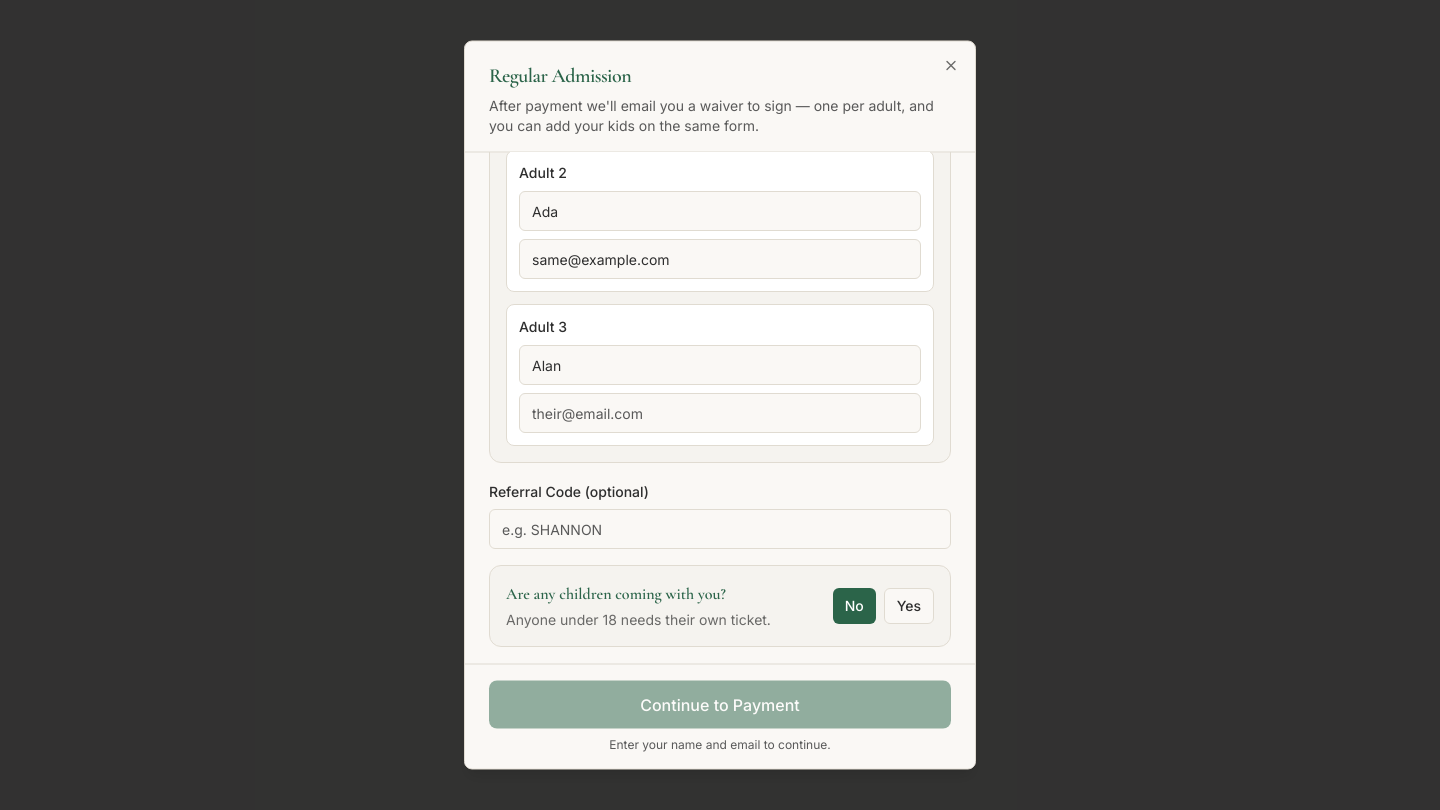
Test case: adult quantity › flags two additional adults sharing an email
This screenshot has width=1440, height=810.
Earlier steps of the test are not shown.
(page scrolled)
Type "same@example.com" into the field with test id "adult-email-3" at (720, 414), box top-left (519, 394), bottom-right (921, 434)
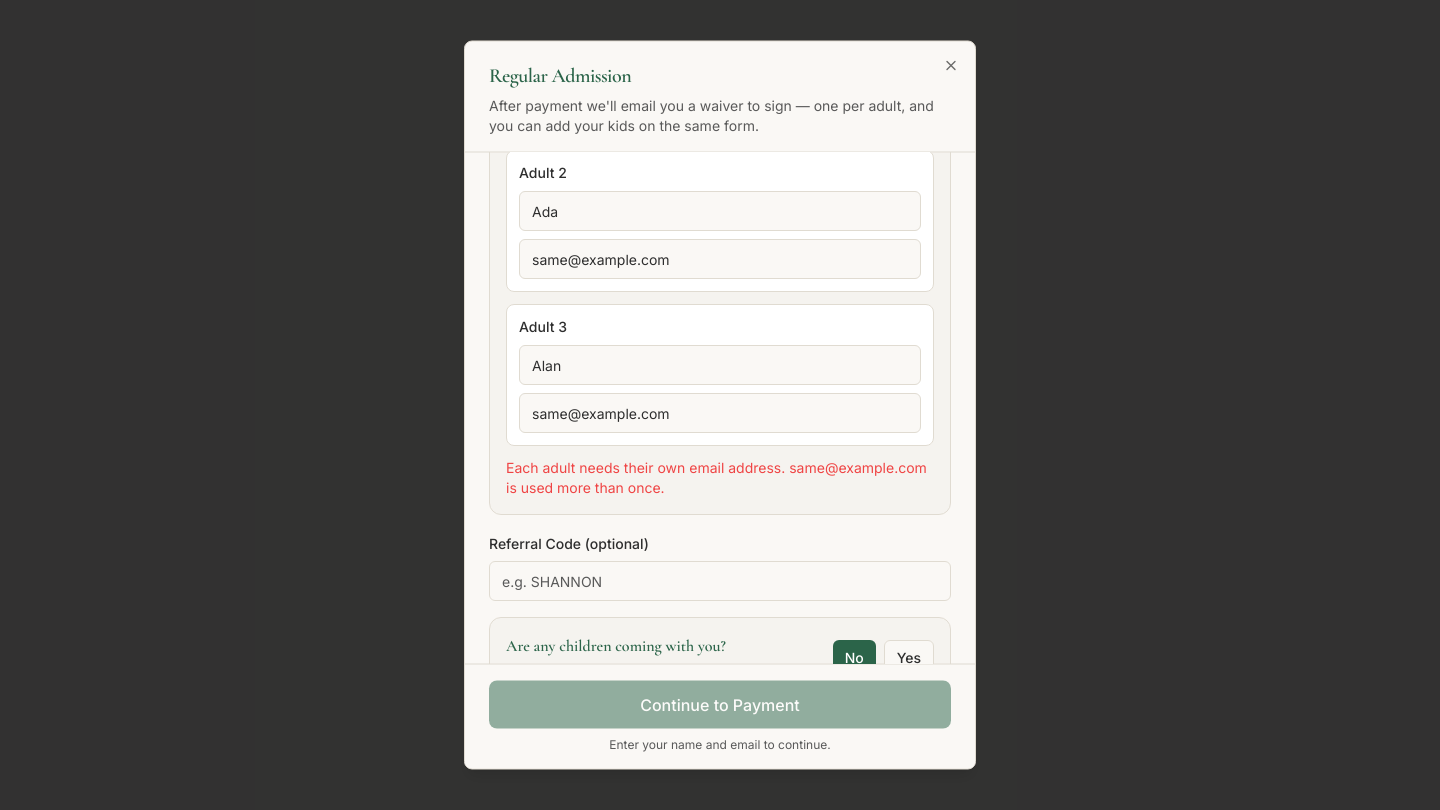
expect the text with test id "duplicate-email-error" is shown: met, box top-left (506, 458), bottom-right (934, 498)
